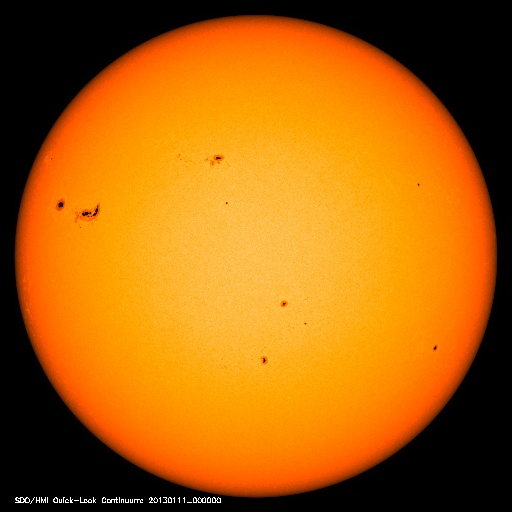sunspot: (42, 189, 117, 235), (258, 292, 295, 371), (192, 143, 236, 178), (421, 333, 451, 363)
